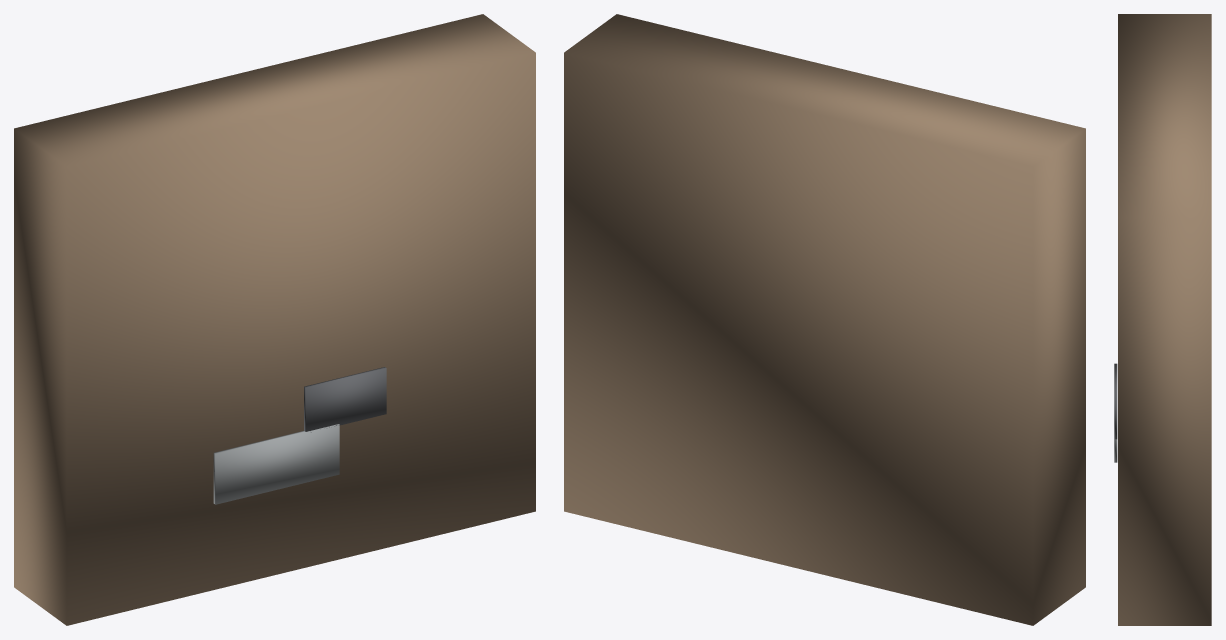
Rendered from back_bar_shelf__weathered.glb.
The picture shows the model from 3 angles, left to right: view 1: azimuth 30°, elevation 25°; view 2: azimuth 150°, elevation 25°; view 3: azimuth 270°, elevation 25°; orthographic projection. The views are drawn at different scales.
Parts seen in each view (by area): view 1: world; view 2: world; view 3: world.
Part boxes in pixels (box(x1,y1,x2,y2)): world: box(14, 14, 535, 625); world: box(564, 14, 1085, 625); world: box(1114, 14, 1211, 625).
Bounding box in the file's own units: 1.8 × 1.68 × 0.364.
